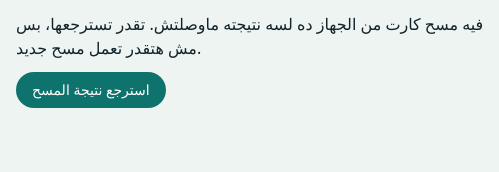
recovers the committed result of a pending scan and forgets the attempt
Click the button.
click(91, 90)  # box left=16, top=72, right=166, bottom=108
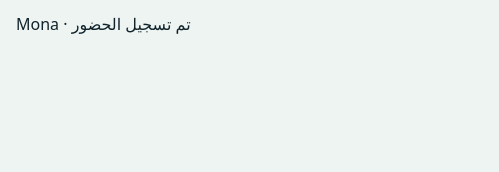
Expected: the text "Mona · تم تسجيل الحضور" is shown, left=16, top=13, right=191, bottom=35
Expected: the button "استرجع نتيجة المسح" is gone
